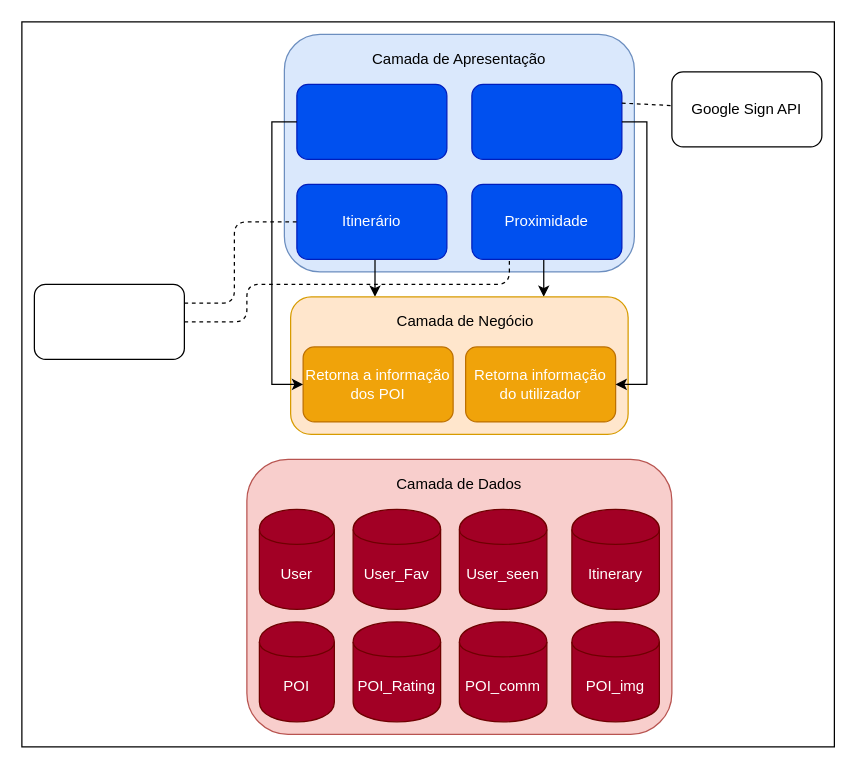
Image size: 856x769. Some labels were removed from this diagram. Here are the shapes that lost their labels. From the top down, the centre of each, then its label:
At pixel 371 121: "Principal".
At pixel 546 121: "Sign up/Login".
At pixel 108 321: "OpenStreetMap API".
